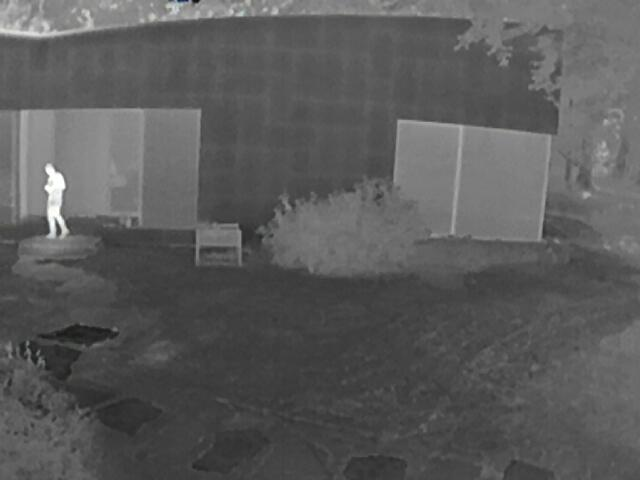person: (42, 161, 70, 238)
